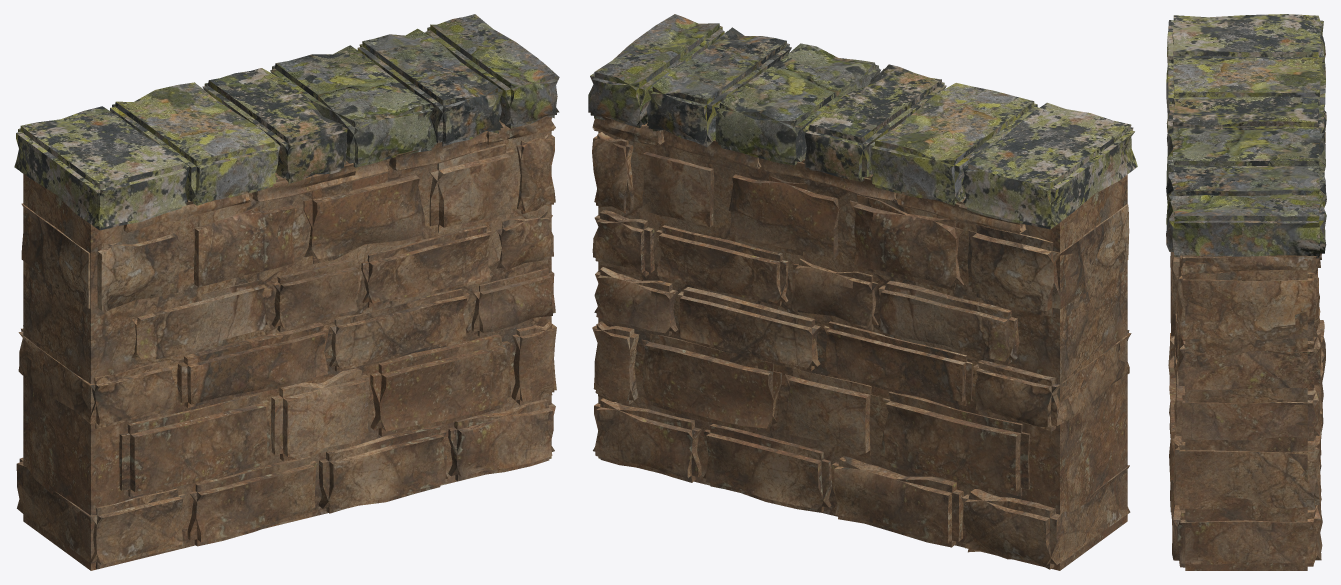
File: wall_1.glb
3 renders of one model, left to right at view 1: azimuth 30°, elevation 25°; view 2: azimuth 150°, elevation 25°; view 3: azimuth 270°, elevation 25°, orthographic. The views are drawn at different scales.
Parts seen in each view (by area): view 1: wall_stone, wall_cope; view 2: wall_stone, wall_cope; view 3: wall_stone, wall_cope.
Boxes of the visible parts, x1,y1,x2,y2 form: wall_stone: (16,116,556,570); wall_cope: (14,14,559,230); wall_stone: (592,117,1131,570); wall_cope: (588,14,1137,229); wall_stone: (1168,252,1325,570); wall_cope: (1166,14,1326,258).
Size of the model in its own units: 1.2 by 0.9624 by 0.3943.
2 materials, 2 textured.
